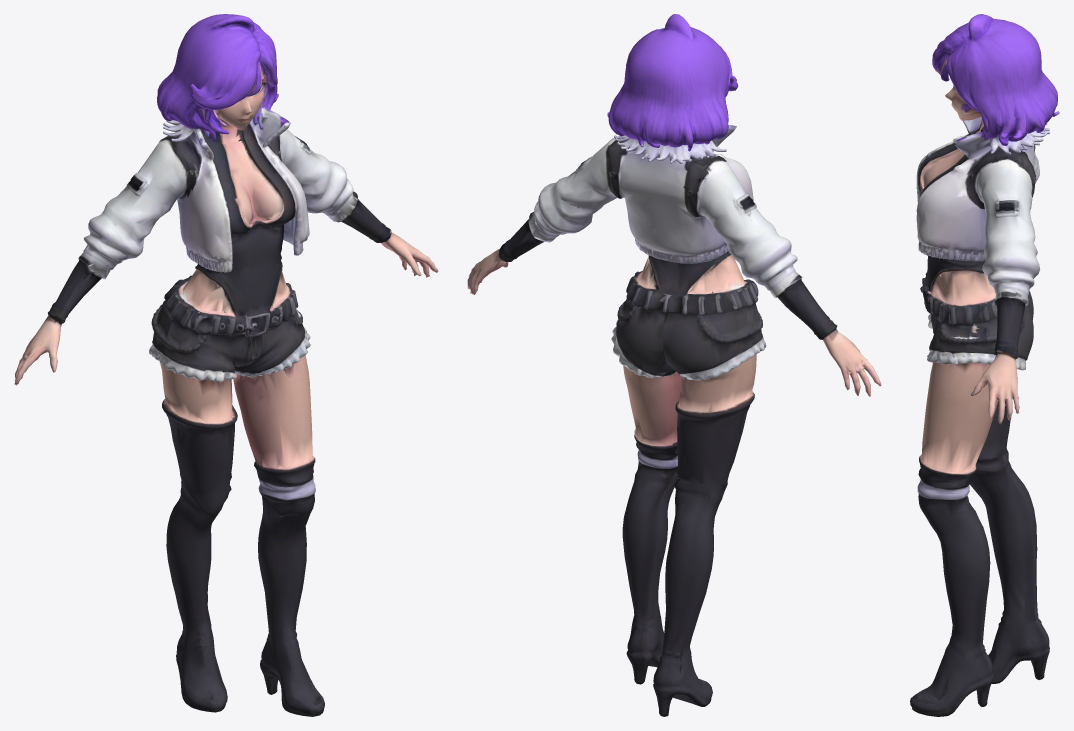
File: nyx.glb
The picture shows the model from 3 angles, left to right: view 1: azimuth 30°, elevation 25°; view 2: azimuth 150°, elevation 25°; view 3: azimuth 270°, elevation 25°; orthographic projection. The views are drawn at different scales.
Visible parts, largest first — view 1: Nyx; view 2: Nyx; view 3: Nyx.
Part boxes in pixels (x1,y1,x2,y2): Nyx: [14, 14, 438, 716]; Nyx: [467, 14, 881, 716]; Nyx: [910, 14, 1059, 716].
Size of the model in its own units: 1.16 by 1.8 by 0.3639.
1 material, 1 textured.
